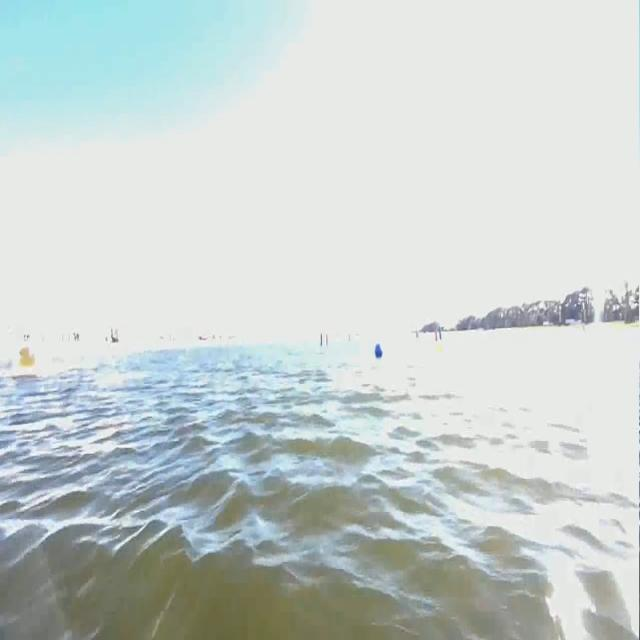blue-buoy: (375, 342, 384, 360)
red-column-buoy: (433, 328, 438, 344)
yellow-buoy: (436, 343, 443, 353)
yellow-duck: (20, 345, 36, 369)
